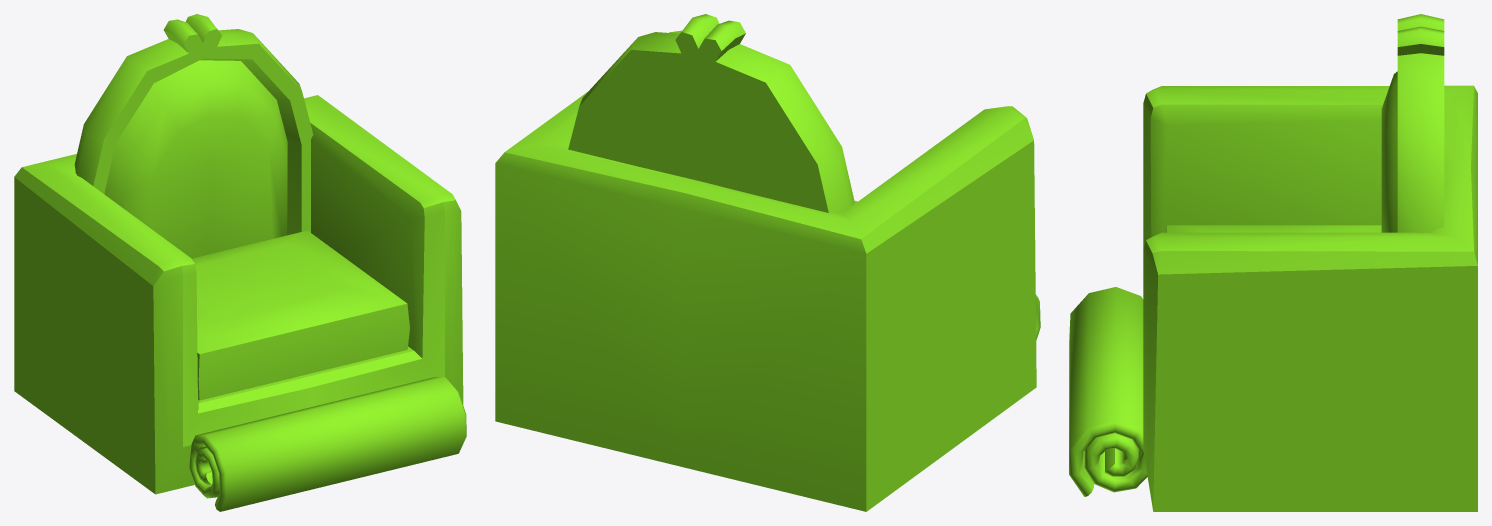
File: SM_EastArmChair.fbx
3 renders of one model, left to right at view 1: azimuth 30°, elevation 25°; view 2: azimuth 150°, elevation 25°; view 3: azimuth 270°, elevation 25°, orthographic. The views are drawn at different scales.
Parts seen in each view (by area): view 1: SM_EastArmChair; view 2: SM_EastArmChair; view 3: SM_EastArmChair.
Boxes of the visible parts, bbox=[...] form: SM_EastArmChair: bbox=[14, 14, 466, 511]; SM_EastArmChair: bbox=[495, 14, 1040, 511]; SM_EastArmChair: bbox=[1069, 14, 1477, 511].
Bounding box in the file's own units: 180 × 198 × 180.
